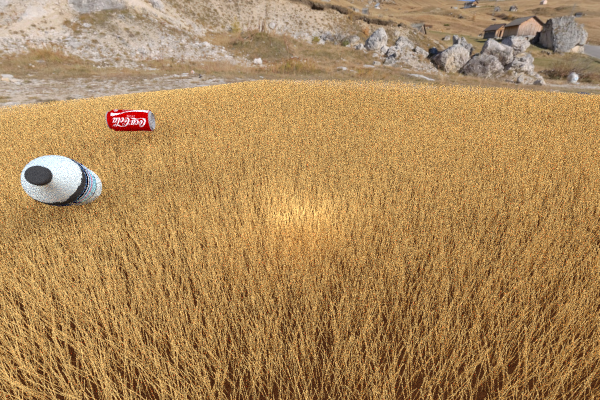bottle: (20, 155, 101, 206)
can: (525, 91, 583, 114), (105, 109, 155, 131)
